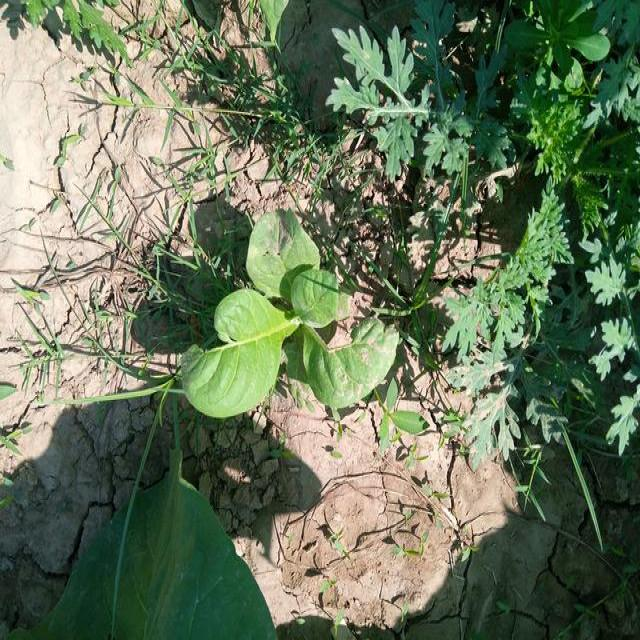crop: (182, 203, 404, 430), (50, 476, 267, 640)
